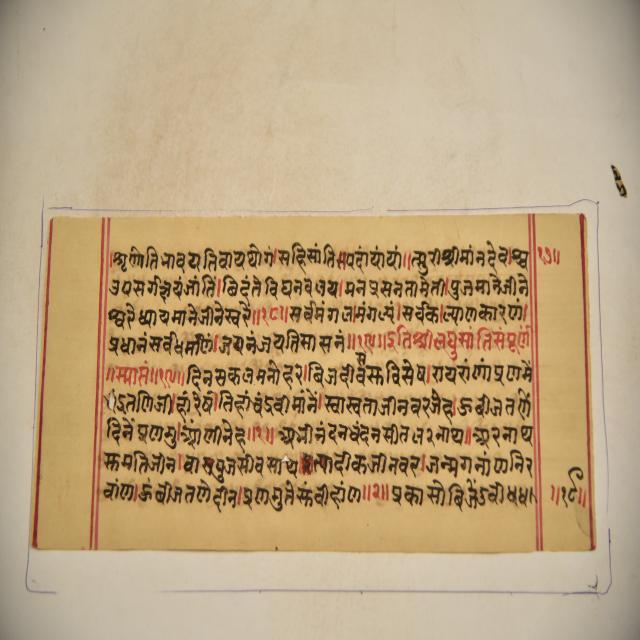text_paragraph: (32, 213, 596, 548)
